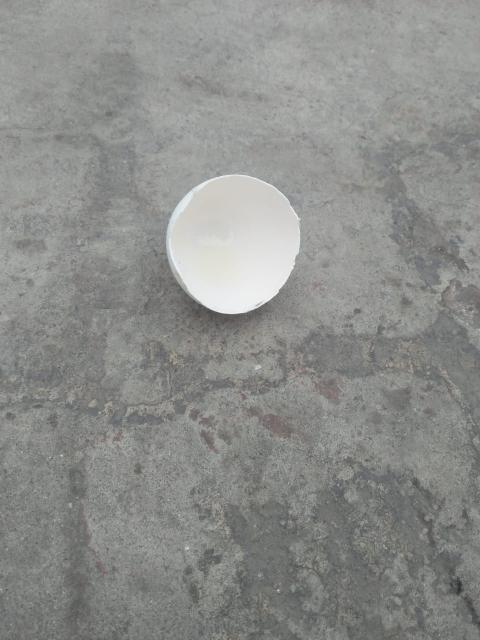Roto: (165, 172, 301, 315)
